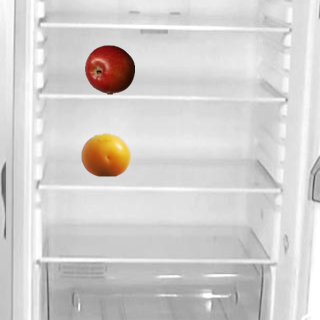Apple Braeburn: (84, 44, 134, 94)
Cherry Wax Yellow: (80, 129, 130, 179)
